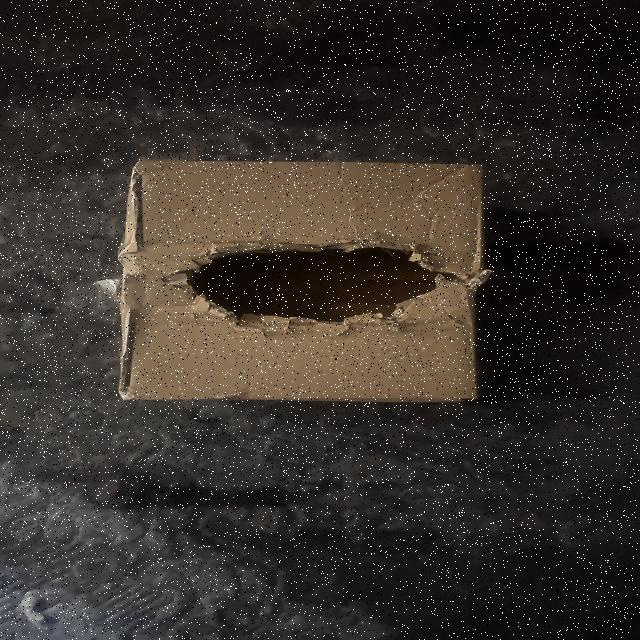damaged: (119, 152, 486, 414), (158, 219, 468, 346)
